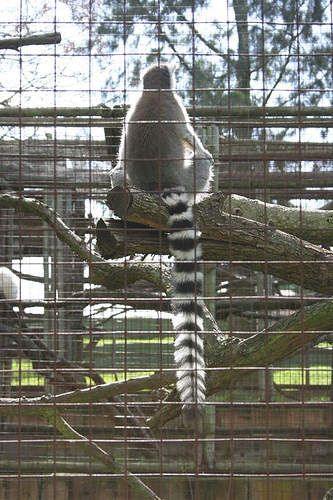cat: (116, 60, 219, 415)
